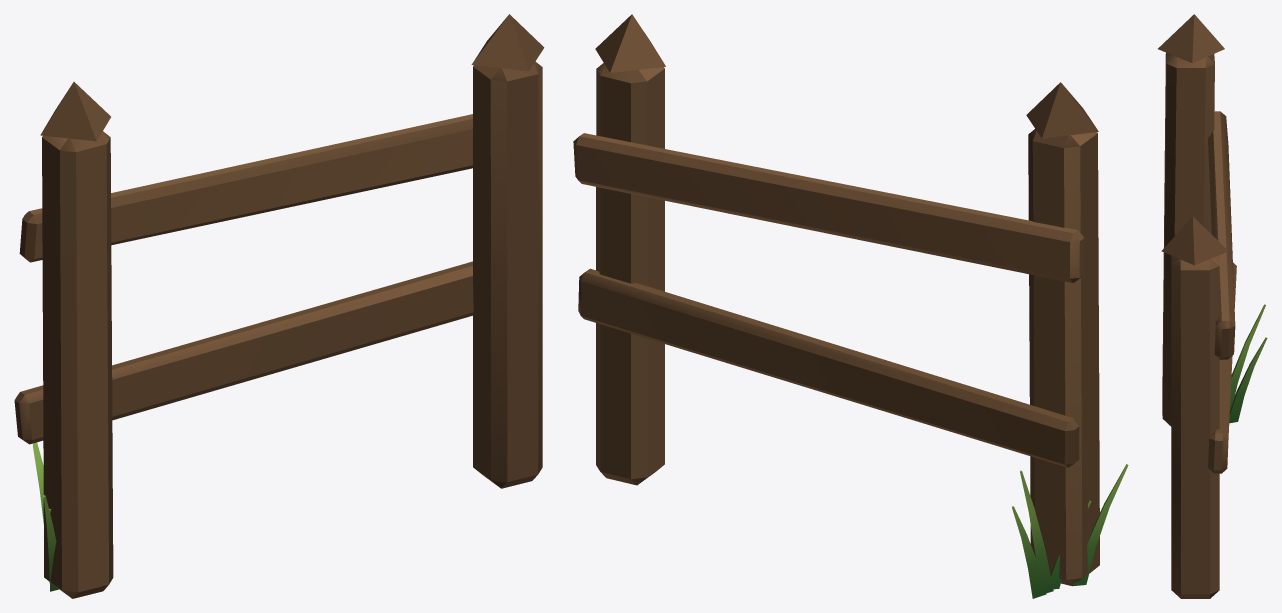
Rendered from FencePost.fbx.
The picture shows the model from 3 angles, left to right: view 1: azimuth 30°, elevation 25°; view 2: azimuth 150°, elevation 25°; view 3: azimuth 270°, elevation 25°; orthographic projection. The views are drawn at different scales.
Visible parts, largest first — view 1: FencePost; view 2: FencePost; view 3: FencePost.
Boxes of the visible parts, bbox=[...] form: FencePost: bbox=[14, 14, 544, 598]; FencePost: bbox=[573, 14, 1128, 598]; FencePost: bbox=[1158, 14, 1267, 598].
Size of the model in its own units: 1.01 by 0.93 by 0.2277.
